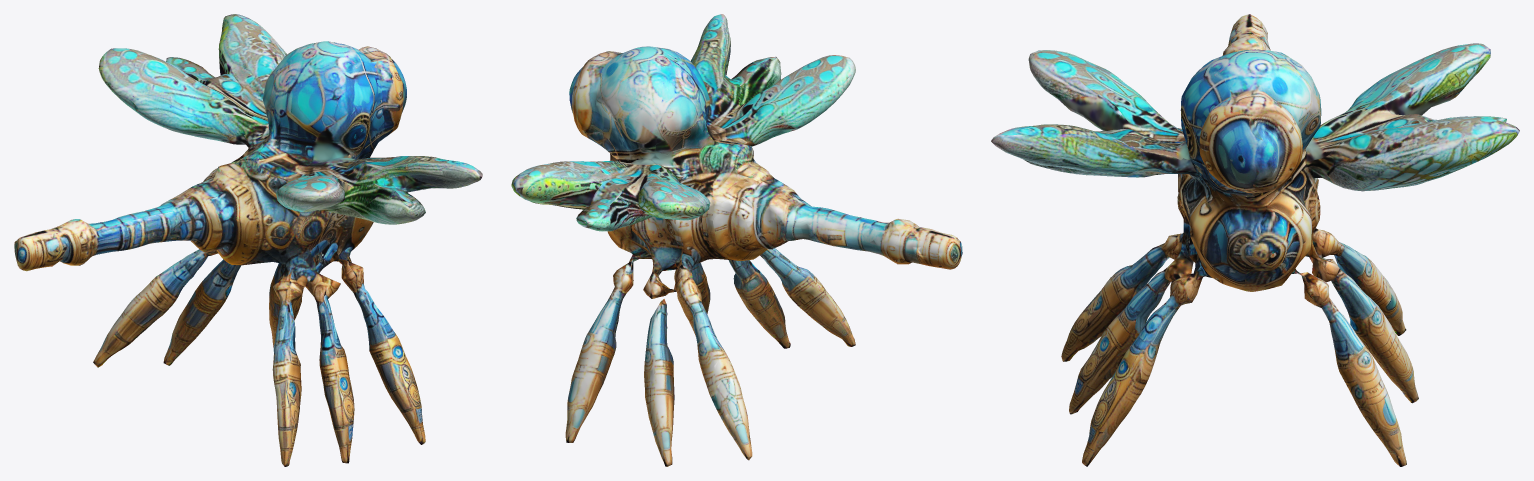
3 renders of one model, left to right at view 1: azimuth 30°, elevation 25°; view 2: azimuth 150°, elevation 25°; view 3: azimuth 270°, elevation 25°, orthographic. The views are drawn at different scales.
Size of the model in its own units: 1.17 by 1.01 by 1.2.
1 material, 1 textured.
